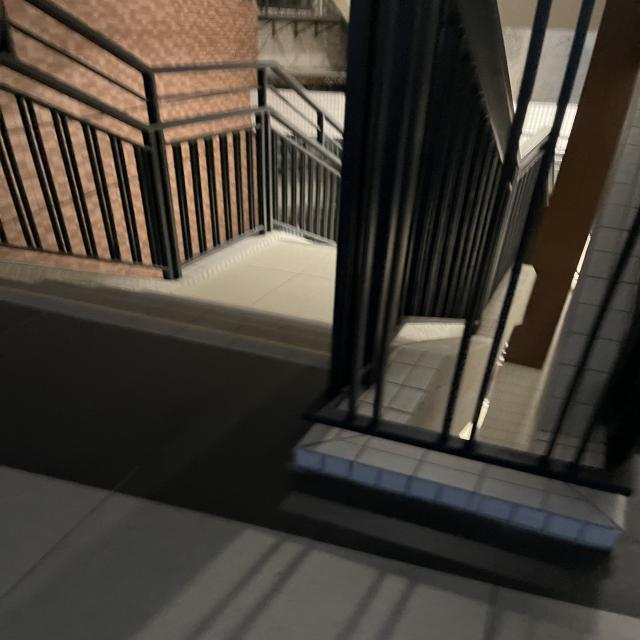Stairs: (9, 237, 338, 375)
